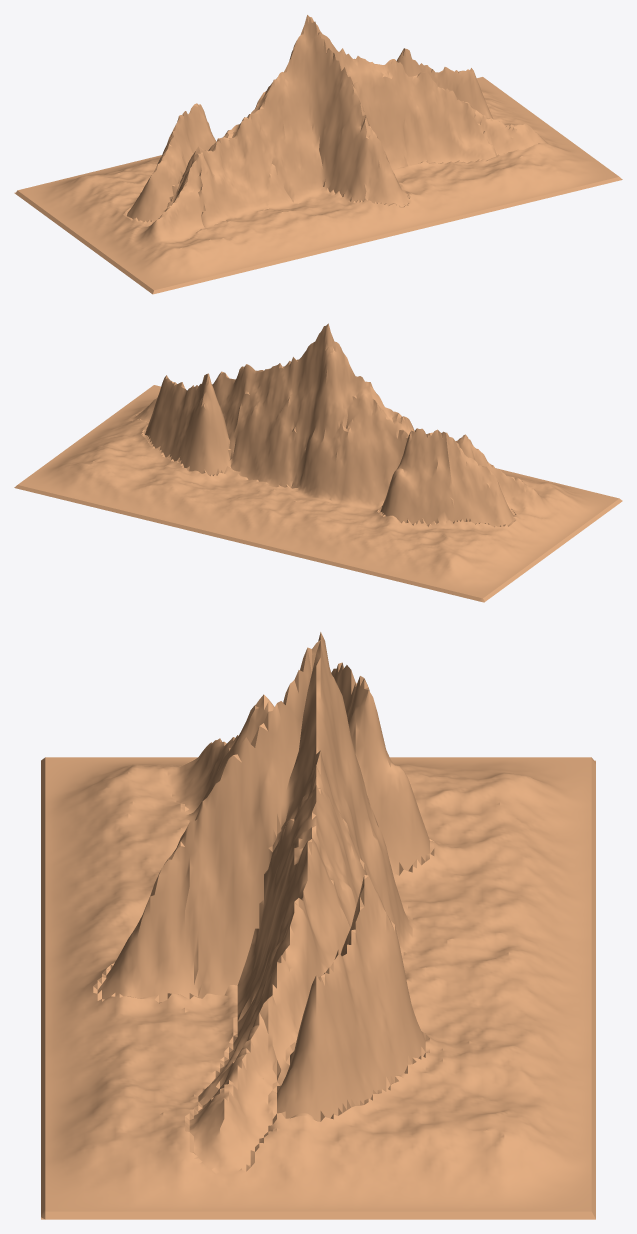
The model's file is krivan_intro_massif.glb.
3 renders of one model, top to bottom at view 1: azimuth 30°, elevation 25°; view 2: azimuth 150°, elevation 25°; view 3: azimuth 270°, elevation 25°, orthographic. The views are drawn at different scales.
Parts seen in each view (by area): view 1: KrivanIntroMassif; view 2: KrivanIntroMassif; view 3: KrivanIntroMassif.
Boxes of the visible parts, left/top/right/bottom form: KrivanIntroMassif: left=14, top=15, right=622, bottom=294; KrivanIntroMassif: left=14, top=323, right=622, bottom=602; KrivanIntroMassif: left=41, top=632, right=595, bottom=1219.
Bounding box in the file's own units: 8.8 × 3.11 × 4.5.
